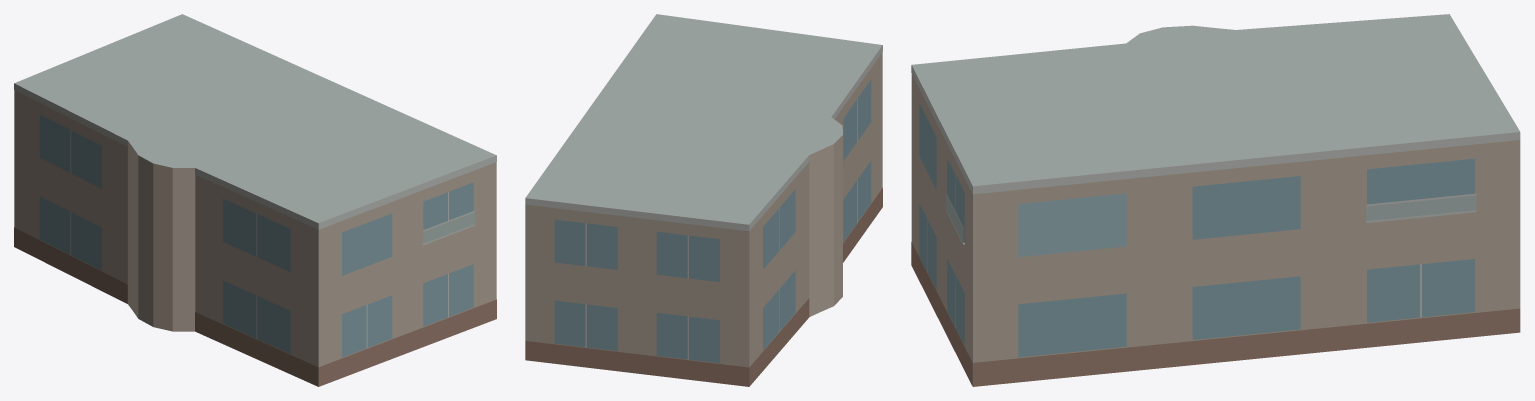
The model's file is survey-upis-32616219.glb.
The picture shows the model from 3 angles, left to right: view 1: azimuth 30°, elevation 25°; view 2: azimuth 150°, elevation 25°; view 3: azimuth 270°, elevation 25°; orthographic projection. The views are drawn at different scales.
Visible parts, largest first — view 1: survey-upis-32616219.tmp; view 2: survey-upis-32616219.tmp; view 3: survey-upis-32616219.tmp.
Boxes of the visible parts, left/top/right/bottom form: survey-upis-32616219.tmp: left=14, top=14, right=496, bottom=386; survey-upis-32616219.tmp: left=525, top=14, right=882, bottom=386; survey-upis-32616219.tmp: left=911, top=14, right=1520, bottom=386.
Size of the model in its own units: 11.25 by 6.1 by 16.8.
